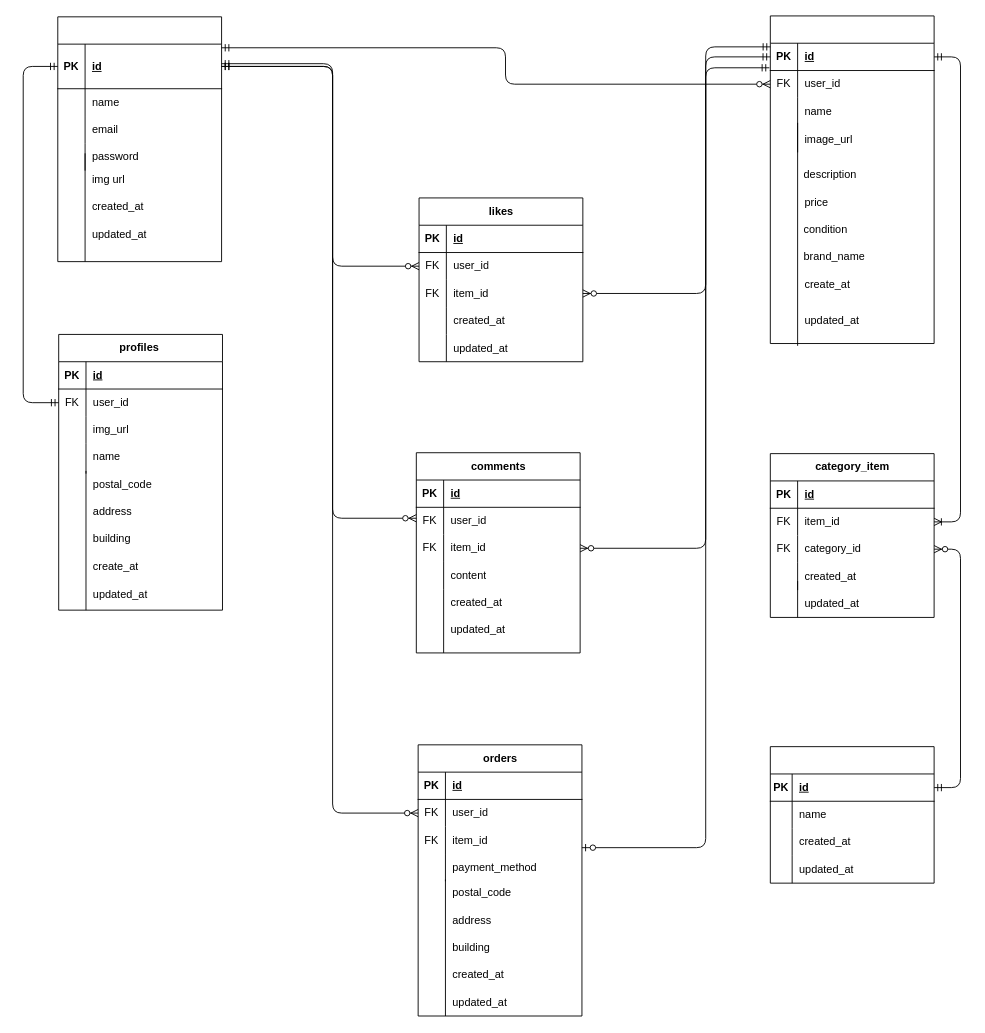
The diagram is 985 pixels wide and 1033 high, and some of its shapes have lost their labels. The shapes that lost their labels are listed below. From the top down, each one's box as (x1, y1, x2, y2) in pixels, then its label:
(57, 16, 222, 262): users
(769, 15, 934, 344): items
(769, 746, 934, 883): categories
